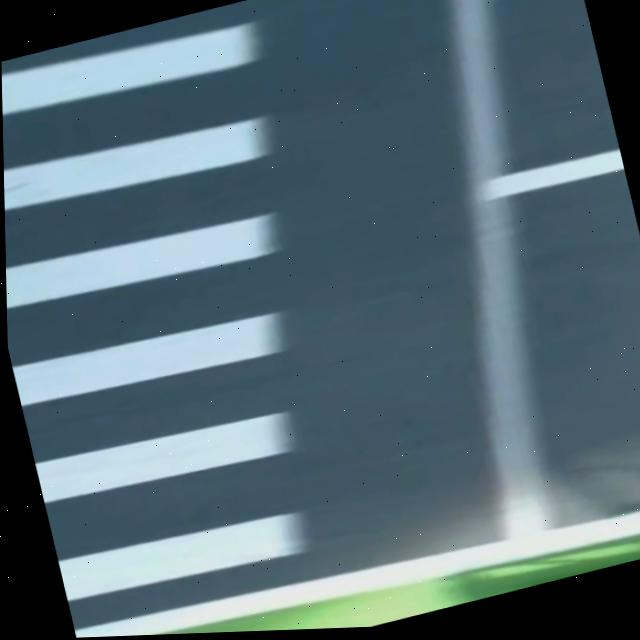center: (483, 148, 624, 199)
right: (73, 509, 640, 638)
